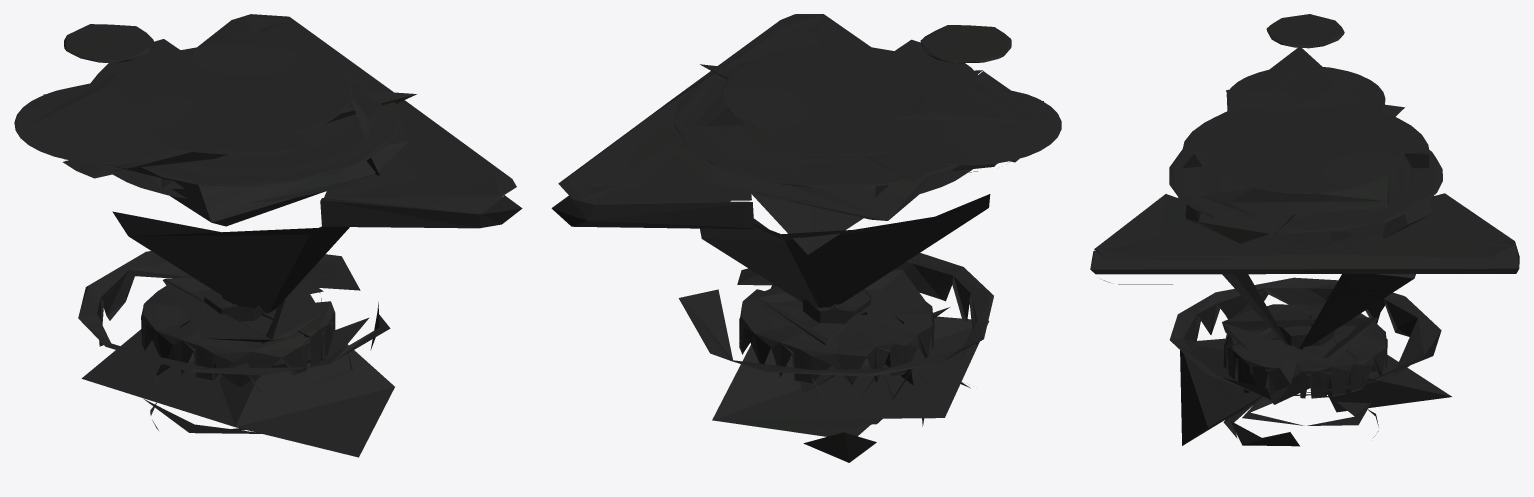
Rendered from engineComponent_belt_tensioner_a01.glb.
3 renders of one model, left to right at view 1: azimuth 30°, elevation 25°; view 2: azimuth 150°, elevation 25°; view 3: azimuth 270°, elevation 25°, orthographic. The views are drawn at different scales.
Visible parts, largest first — view 1: geometry_0; view 2: geometry_0; view 3: geometry_0.
Part boxes in pixels (x1,y1,x2,y2): geometry_0: [14, 14, 522, 457]; geometry_0: [551, 14, 1061, 462]; geometry_0: [1090, 14, 1519, 446].
Bounding box in the file's own units: 0.3657 × 0.3908 × 0.42.
Materials: 1 (1 with a texture image).
